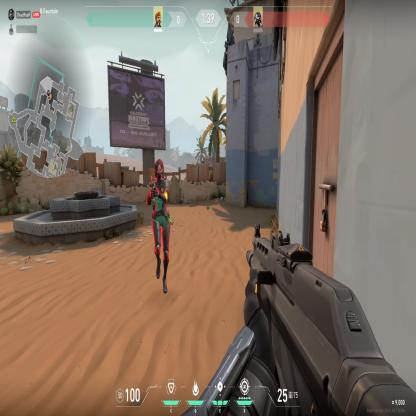enemy: (146, 157, 172, 295)
